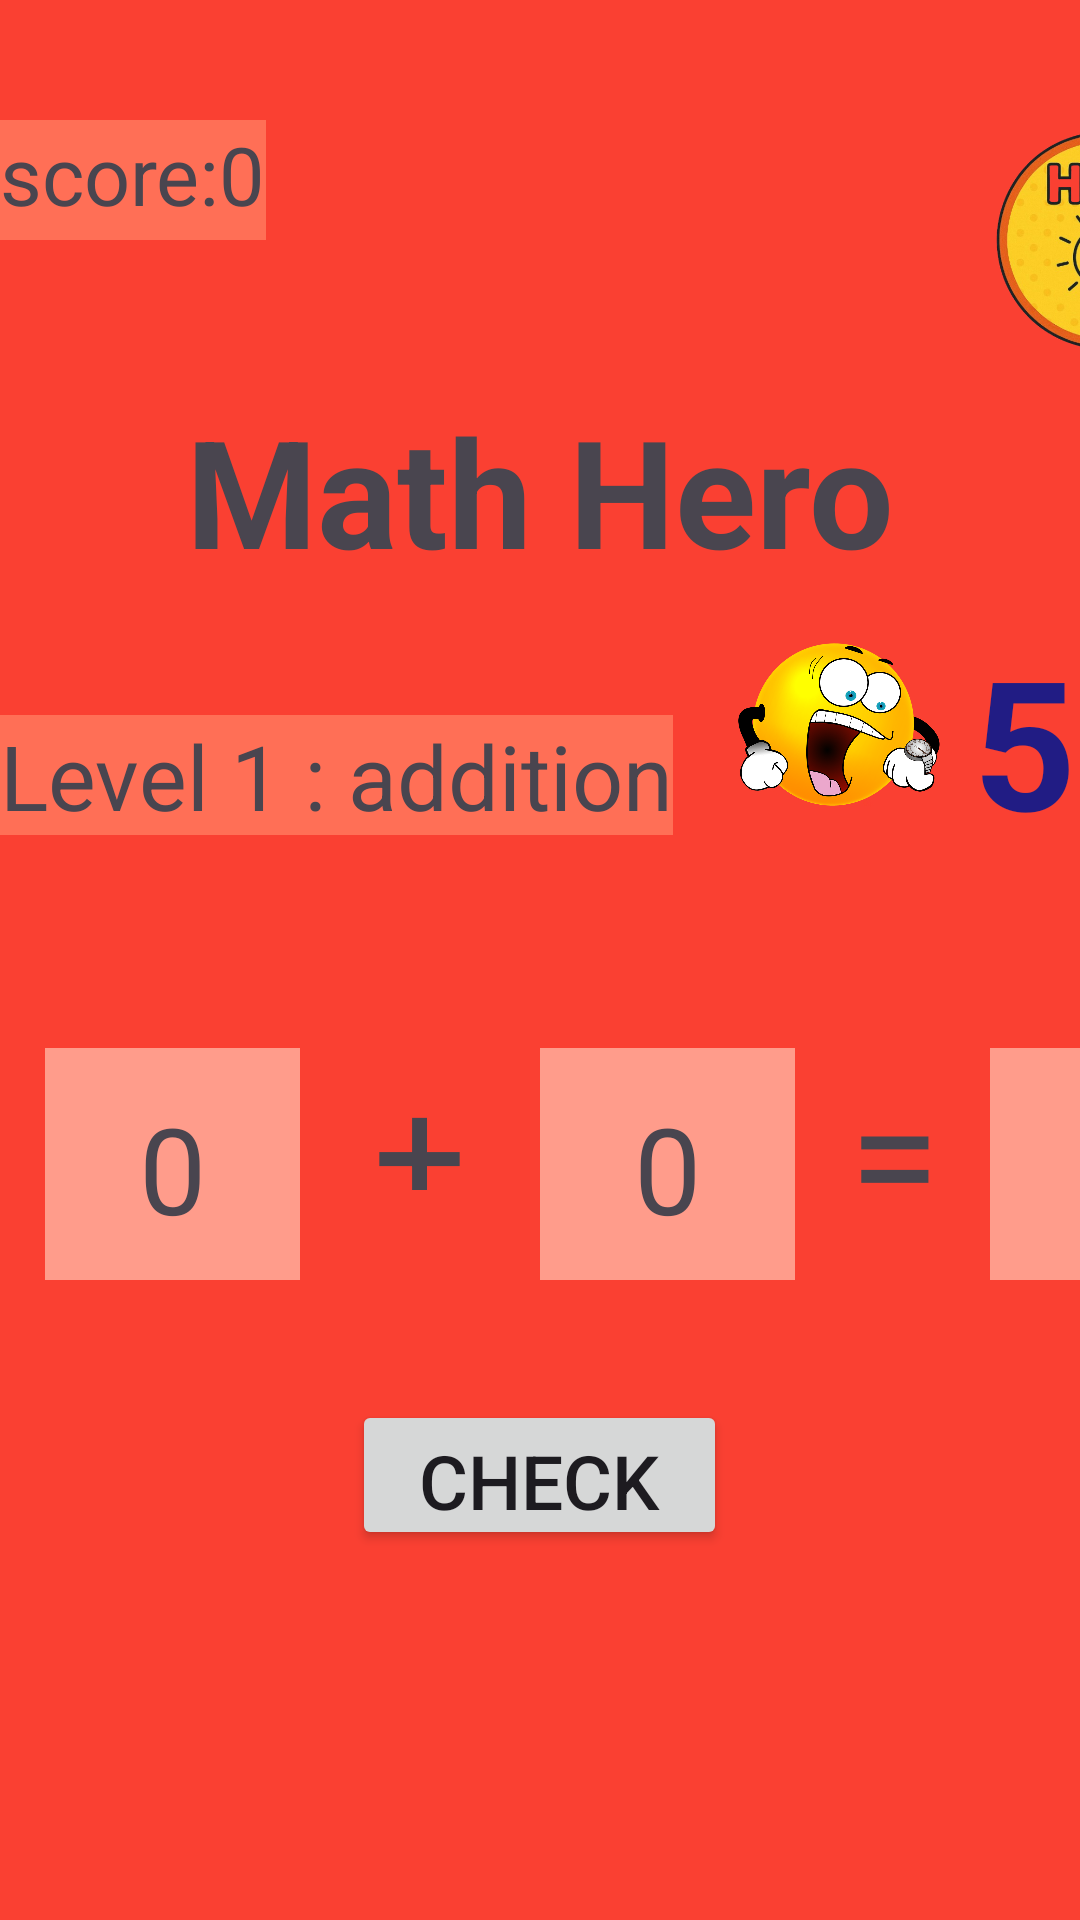

Locate icon controls on the screen. Image size 1080×1920, boxes as {"x1": x1, "y1": y1, "x2": x2, "y2": y2}.
timeout: {"x1": 738, "y1": 643, "x2": 940, "y2": 806}
